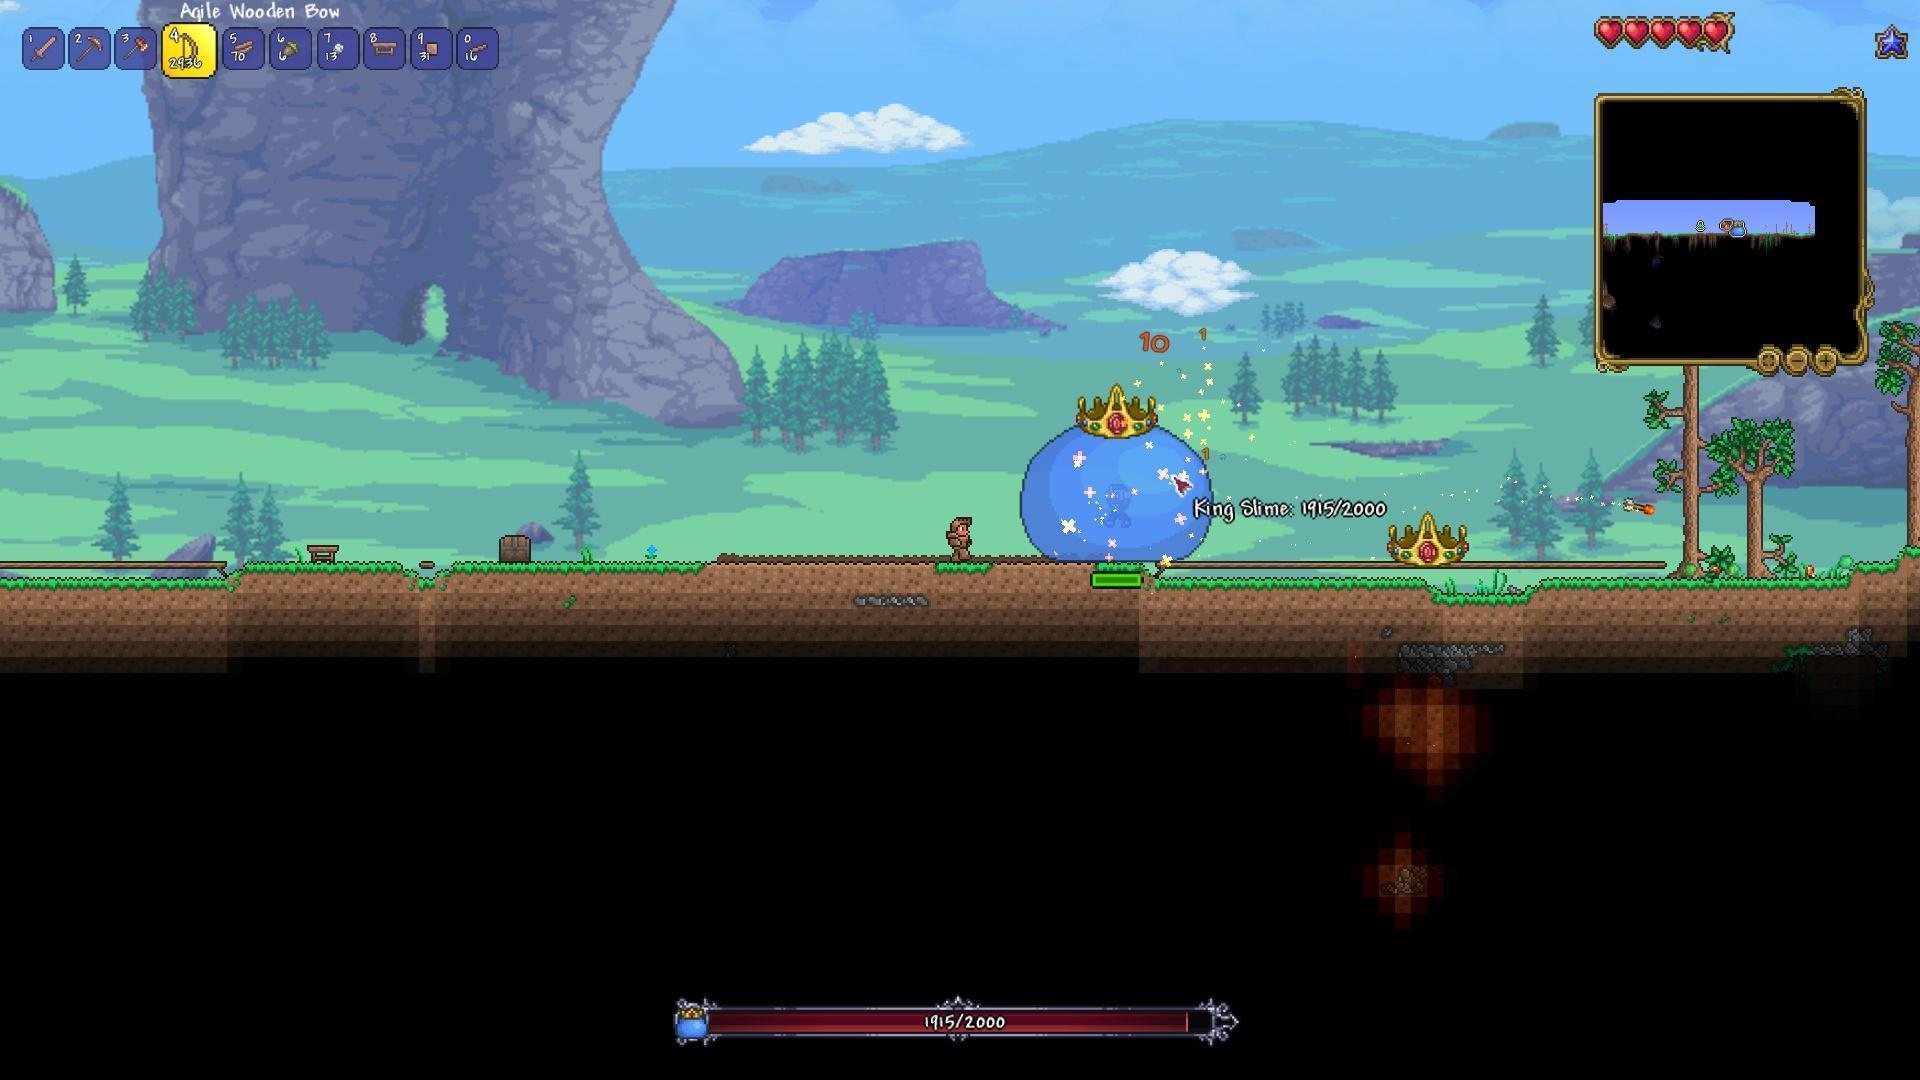wood: (228, 33, 260, 63)
workbench: (367, 34, 404, 59), (305, 543, 343, 564)
